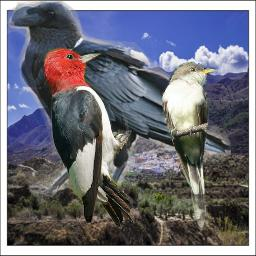Crow: (6, 1, 231, 204)
Cuckoo: (162, 61, 217, 232)
Woodpecker: (44, 46, 137, 229)
